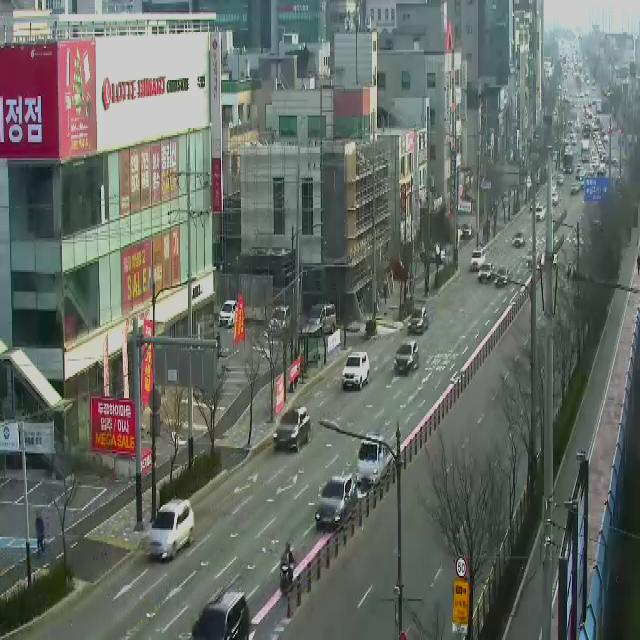Bus: (563, 151, 574, 174)
Car: (189, 592, 249, 640), (150, 500, 194, 561), (315, 473, 355, 528), (356, 433, 394, 485), (274, 405, 310, 453), (308, 304, 336, 340), (343, 352, 369, 390), (394, 339, 419, 377), (268, 307, 292, 338), (407, 307, 429, 336), (218, 300, 239, 330), (494, 267, 510, 288), (478, 264, 494, 280), (471, 249, 485, 267), (512, 233, 525, 247), (461, 224, 472, 240), (536, 206, 546, 221), (556, 174, 564, 187), (552, 190, 558, 206), (571, 183, 578, 194)
Motorcycle: (278, 541, 295, 601)
